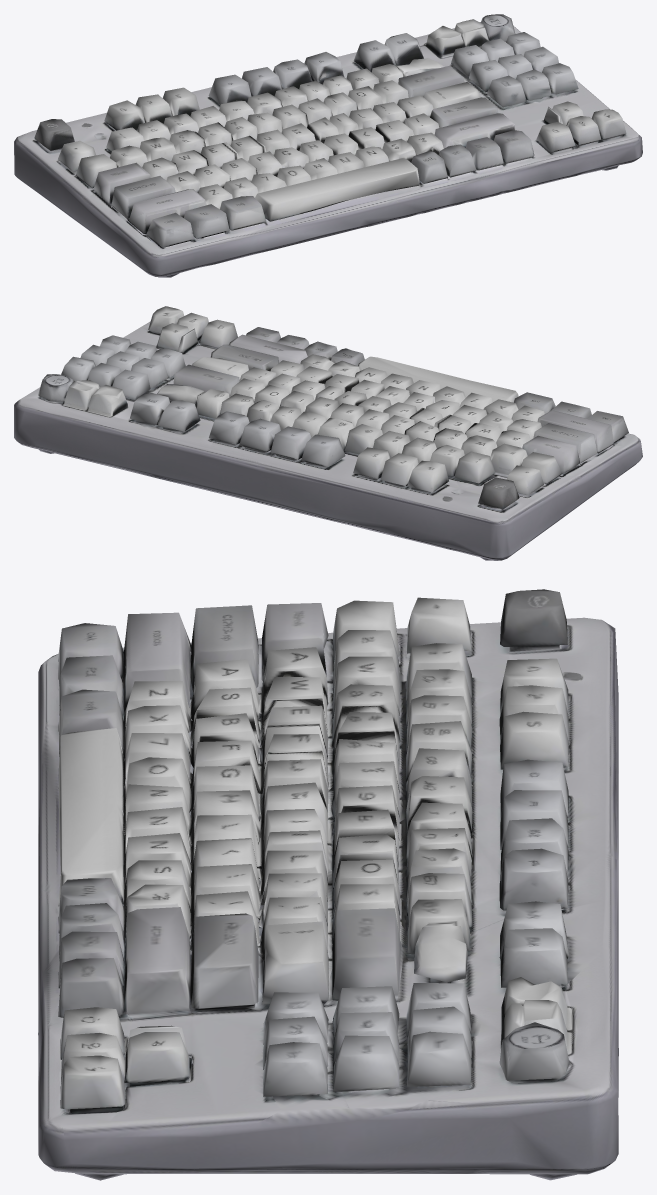
The model's file is keyboard.glb.
The picture shows the model from 3 angles, top to bottom: view 1: azimuth 30°, elevation 25°; view 2: azimuth 150°, elevation 25°; view 3: azimuth 270°, elevation 25°; orthographic projection. The views are drawn at different scales.
Visible parts, largest first — view 1: tripo_node_7be94b59-cdac-4aca-aca9-1ec323f9b875; view 2: tripo_node_7be94b59-cdac-4aca-aca9-1ec323f9b875; view 3: tripo_node_7be94b59-cdac-4aca-aca9-1ec323f9b875.
Boxes of the visible parts, <box> form: tripo_node_7be94b59-cdac-4aca-aca9-1ec323f9b875: <box>14,14,642,277</box>; tripo_node_7be94b59-cdac-4aca-aca9-1ec323f9b875: <box>14,306,642,560</box>; tripo_node_7be94b59-cdac-4aca-aca9-1ec323f9b875: <box>38,589,618,1180</box>.
Bounding box in the file's own units: 0.9786 × 0.1305 × 0.4962.
1 material, 1 textured.
